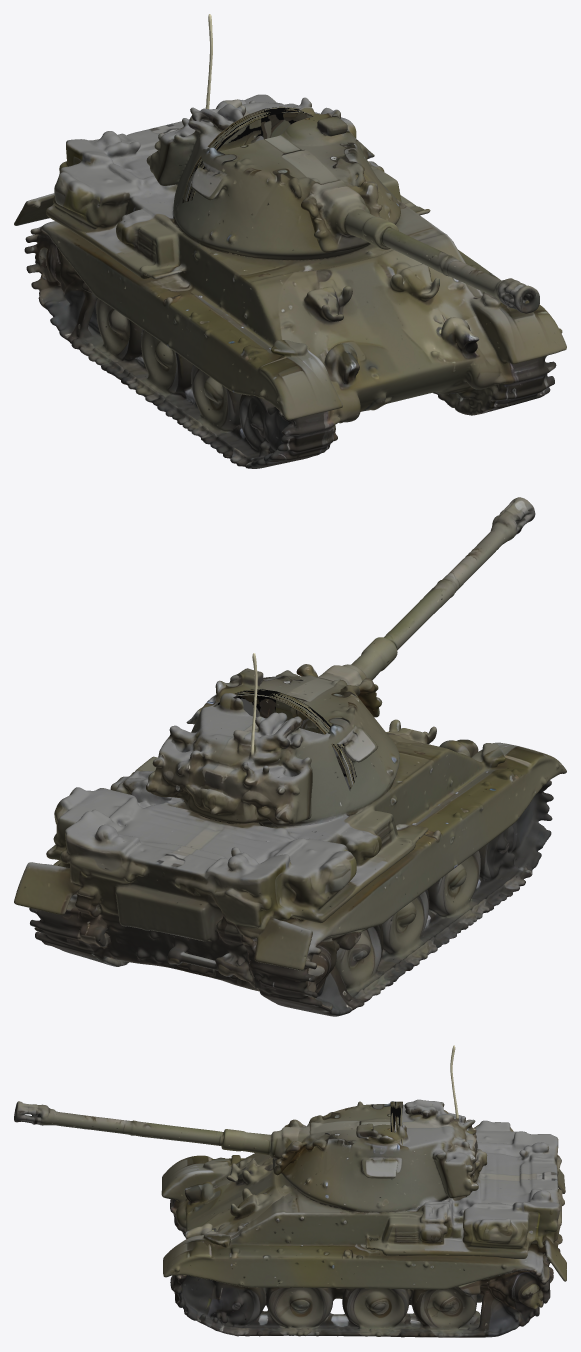
File: tank.fbx
3 renders of one model, top to bottom at view 1: azimuth 30°, elevation 25°; view 2: azimuth 150°, elevation 25°; view 3: azimuth 270°, elevation 25°, orthographic. The views are drawn at different scales.
Visible parts, largest first — view 1: HullBody, TurretMesh, TrackLeft, TrackRight, TurretCollar; view 2: HullBody, TurretMesh, TrackLeft, TrackRight, TurretCollar; view 3: HullBody, TurretMesh, TrackRight, TurretCollar.
Boxes of the visible parts, x1,y1,x2,y2 form: HullBody: (14,94,566,423); TurretMesh: (146,14,539,313); TrackLeft: (24,226,340,468); TrackRight: (433,356,556,415); TurretCollar: (182,106,313,203); HullBody: (14,719,566,991); TurretMesh: (146,497,535,827); TrackLeft: (249,780,553,1016); TrackRight: (29,894,128,966); TurretCollar: (213,689,356,790); HullBody: (161,1120,566,1304); TurretMesh: (14,1045,487,1213); TrackRight: (170,1256,553,1337); TurretCollar: (390,1101,402,1144).
Bounding box in the file's own units: 2.03 × 2.14 × 4.5.
4 materials, 4 textured.
